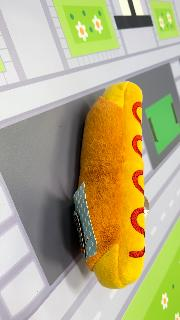hotdog: (73, 80, 147, 290)
